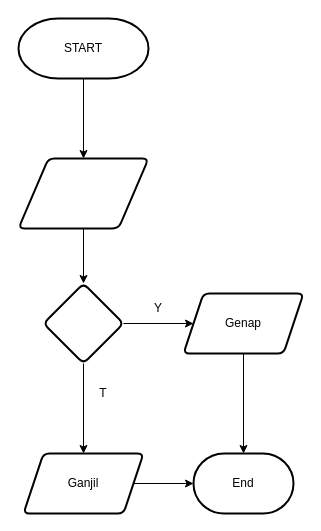
This 321x531 diagram has some shape labels left out. Each missing label, with the centre of its shape:
"bil%2" belongs at (x=83, y=323).
"Bilangan" belongs at (x=83, y=193).
